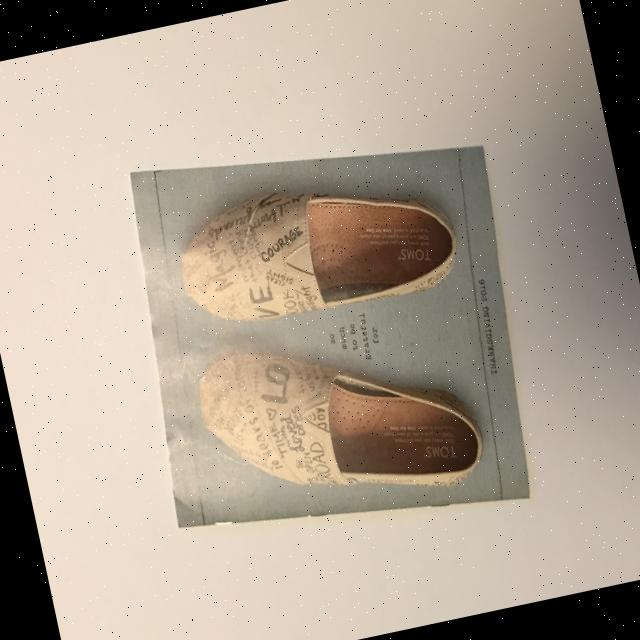paper: (104, 98, 556, 570)
